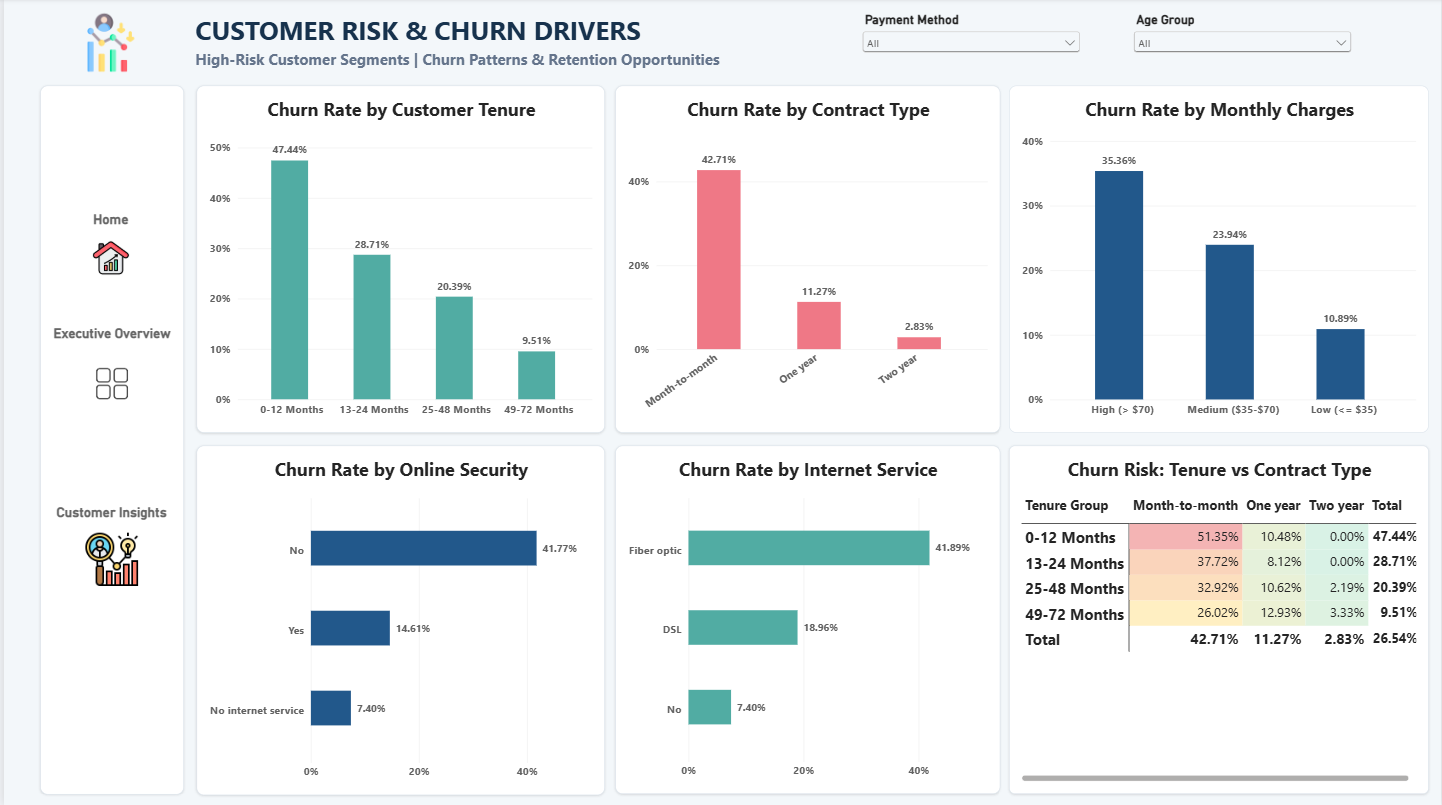

The page's visual inventory and layout, read from the dashboard file:
{"tool":"powerbi","page":{"name":"Customer Risk Analysis","canvas":[1920,1080],"ordinal":2},"visuals":[{"type":"textbox","box":[48.8,116.9,191.9,947.1],"z":0},{"type":"textbox","title":"CUSTOMER RISK & CHURN DRIVERS","box":[256,18,784,82],"z":1000},{"type":"clusteredColumnChart","title":"Churn Rate by Customer Tenure","fields":{"Category":["Telco-Customer-Churn_Raw.Tenure Group"],"Y":["Telco-Customer-Churn_Raw.Churn Rate by Segment"]},"box":[256.4,116.9,545.9,464],"z":2000},{"type":"clusteredColumnChart","title":"Churn Rate by Contract Type","fields":{"Category":["Telco-Customer-Churn_Raw.Contract"],"Y":["Telco-Customer-Churn_Raw.Churn Rate by Segment"]},"box":[816.3,116.9,514.5,464],"z":3000},{"type":"clusteredBarChart","title":"Churn Rate by Online Security","fields":{"Category":["Telco-Customer-Churn_Raw.OnlineSecurity"],"Y":["Telco-Customer-Churn_Raw.Churn Rate by Segment"]},"box":[256.4,598.3,545.9,467.4],"z":4000},{"type":"clusteredBarChart","title":"Churn Rate by Internet Service","fields":{"Category":["Telco-Customer-Churn_Raw.InternetService"],"Y":["Telco-Customer-Churn_Raw.Churn Rate by Segment"]},"box":[816.5,597.8,514.3,465.9],"z":5000},{"type":"clusteredColumnChart","title":"Churn Rate by Monthly Charges","fields":{"Category":["Telco-Customer-Churn_Raw.Monthly Charges Group"],"Y":["Telco-Customer-Churn_Raw.Churn Rate by Segment"]},"box":[1342.5,116.9,561,464.2],"z":6000},{"type":"pivotTable","title":"Churn Risk: Tenure vs Contract Type","fields":{"Columns":["Telco-Customer-Churn_Raw.Contract"],"Rows":["Telco-Customer-Churn_Raw.Tenure Group"],"Values":["Telco-Customer-Churn_Raw.Churn Rate by Segment"]},"box":[1342.5,597.8,561,465.9],"z":7000},{"type":"image","title":"Executive Overview","box":[48,438,192,118],"z":8000},{"type":"image","title":"Customer Insights ","box":[46,676,194,110],"z":9000},{"type":"image","box":[46,18,192,82],"z":10000},{"type":"slicer","fields":{"Values":["Telco-Customer-Churn_Raw.PaymentMethod"]},"box":[1142,18,300,82],"z":11000},{"type":"slicer","fields":{"Values":["Telco-Customer-Churn_Raw.Customer Age Group"]},"box":[1504,18,300,82],"z":12000},{"type":"image","title":"Home","box":[46,286,192,86],"z":13000}]}

Visuals, with their boxes in screenshot pixels (x1, y1, x2, y2), scaled from the page's 1920x1080 canvas onto the 1442x805 screenshot:
textbox: (37, 87, 181, 793)
"CUSTOMER RISK & CHURN DRIVERS" textbox: (192, 13, 781, 75)
"Churn Rate by Customer Tenure" clusteredColumnChart: (193, 87, 603, 433)
"Churn Rate by Contract Type" clusteredColumnChart: (613, 87, 999, 433)
"Churn Rate by Online Security" clusteredBarChart: (193, 446, 603, 794)
"Churn Rate by Internet Service" clusteredBarChart: (613, 446, 999, 793)
"Churn Rate by Monthly Charges" clusteredColumnChart: (1008, 87, 1430, 433)
"Churn Risk: Tenure vs Contract Type" pivotTable: (1008, 446, 1430, 793)
"Executive Overview" image: (36, 326, 180, 414)
"Customer Insights " image: (35, 504, 180, 586)
image: (35, 13, 179, 75)
slicer - Telco-Customer-Churn_Raw.PaymentMethod: (858, 13, 1083, 75)
slicer - Telco-Customer-Churn_Raw.Customer Age Group: (1130, 13, 1355, 75)
"Home" image: (35, 213, 179, 277)
